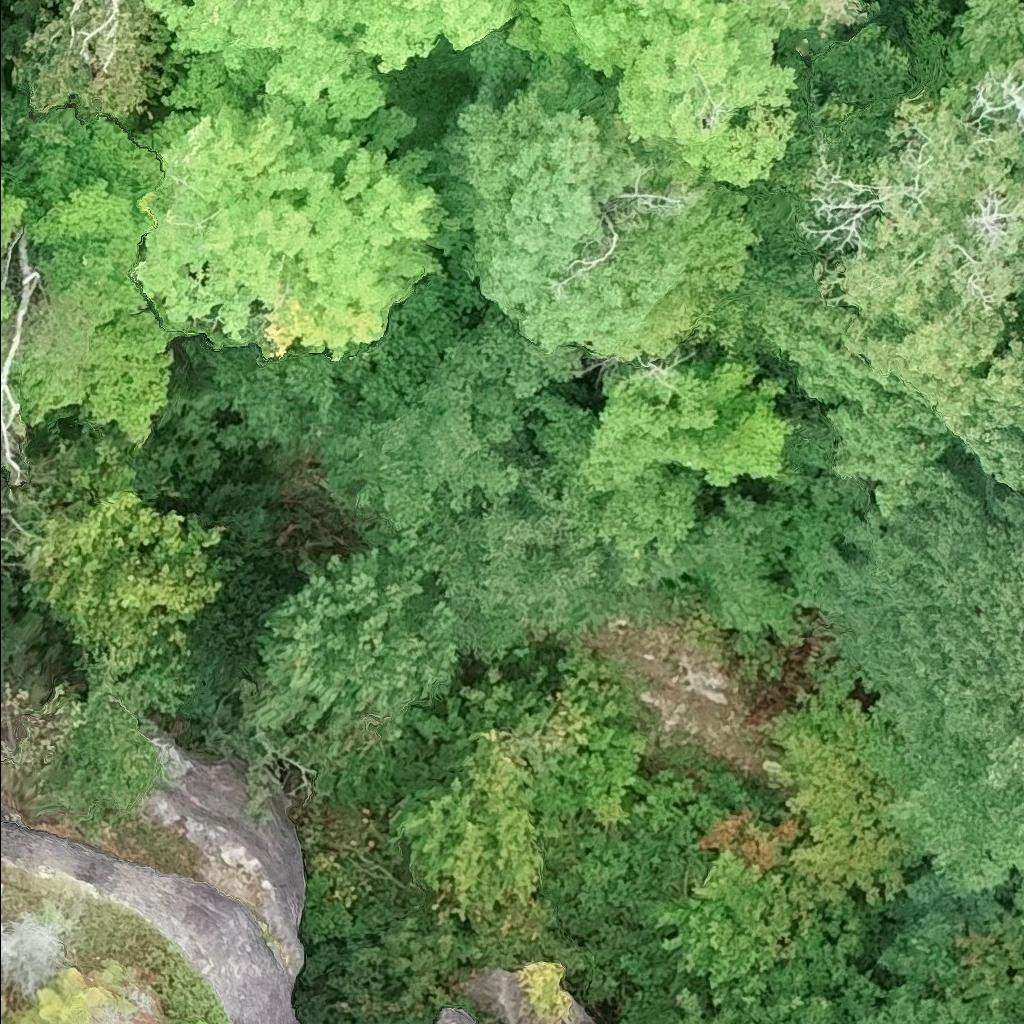crown: (760, 0, 1023, 516), (436, 56, 764, 367), (134, 92, 443, 359), (537, 341, 799, 593), (0, 107, 175, 447), (502, 0, 798, 188), (826, 491, 1023, 742), (143, 0, 390, 136), (6, 0, 162, 131), (352, 0, 512, 78), (0, 170, 31, 261), (0, 276, 15, 338), (0, 110, 16, 151)
